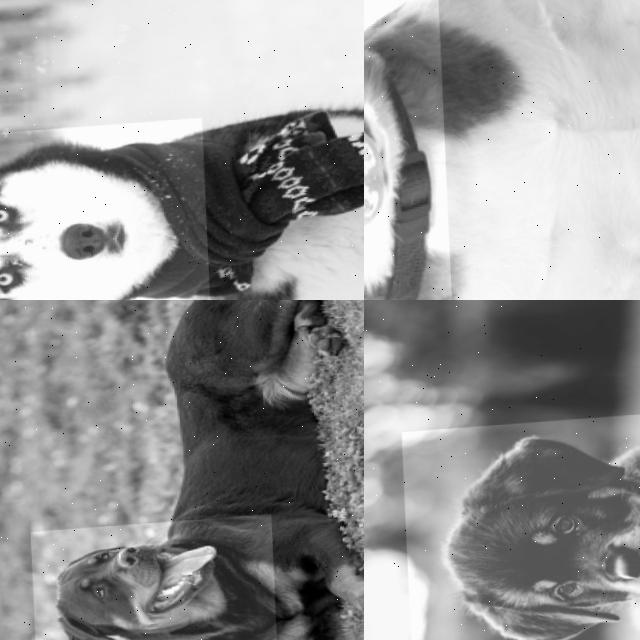beagle: (364, 0, 461, 300)
husky: (0, 119, 212, 300)
rottweiler: (399, 408, 640, 640), (29, 515, 278, 640)
